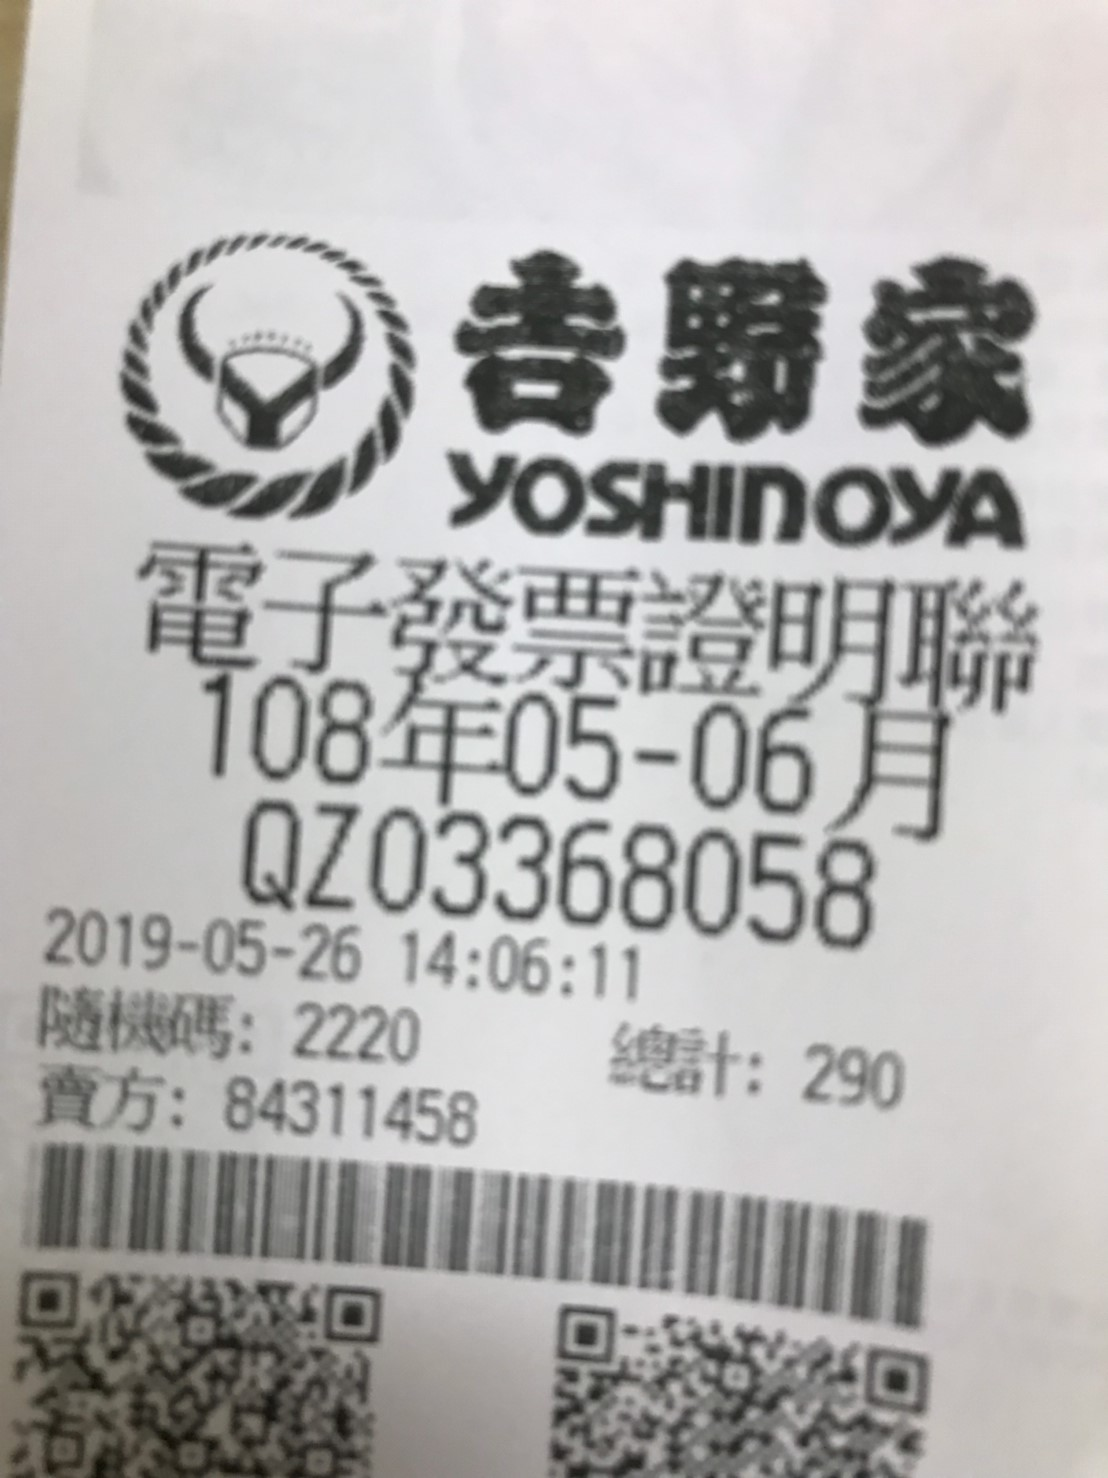Date_New: (196, 673, 952, 847)
Number_New: (370, 806, 882, 951)
